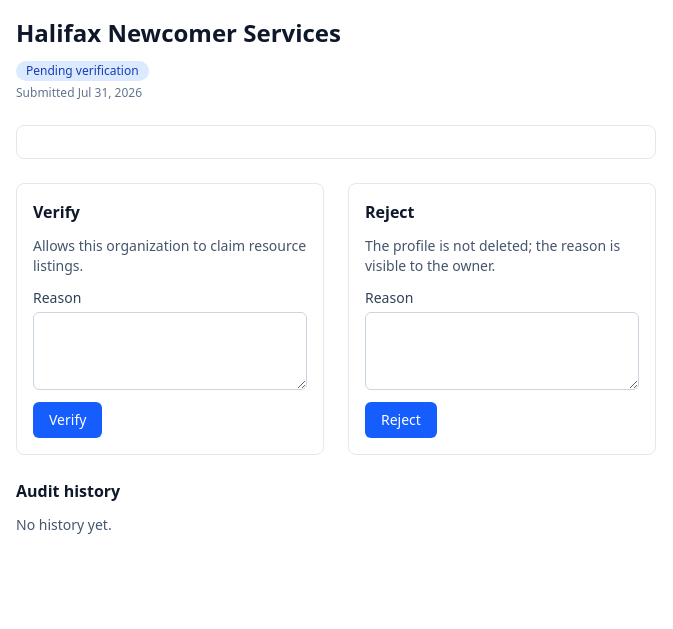
Test: AdminOrganizationDetail › shows a specific message when self-review is blocked
Expected: the heading "Halifax Newcomer Services" is shown, 16,16 -> 341,49
In the 1st text box labelled "Reason": (170, 351) 33,312 -> 307,390, type "Approving my own organization."
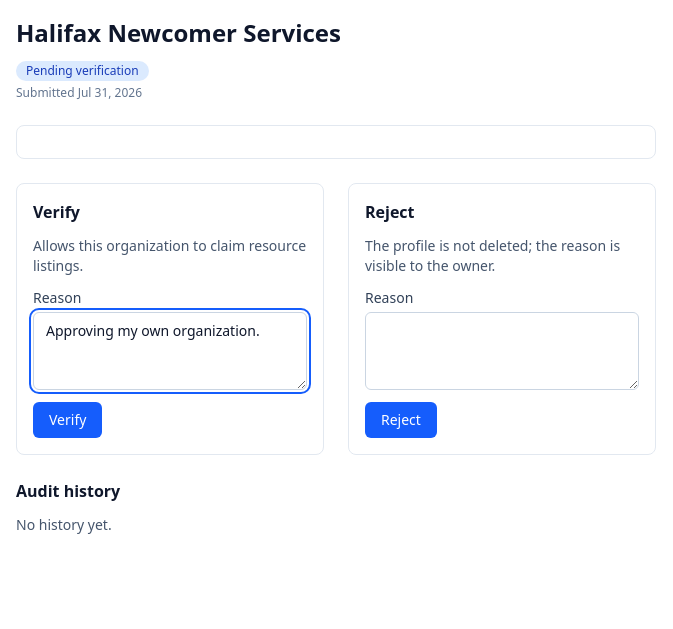
Click the button "Verify": (68, 420) 33,402 -> 102,438
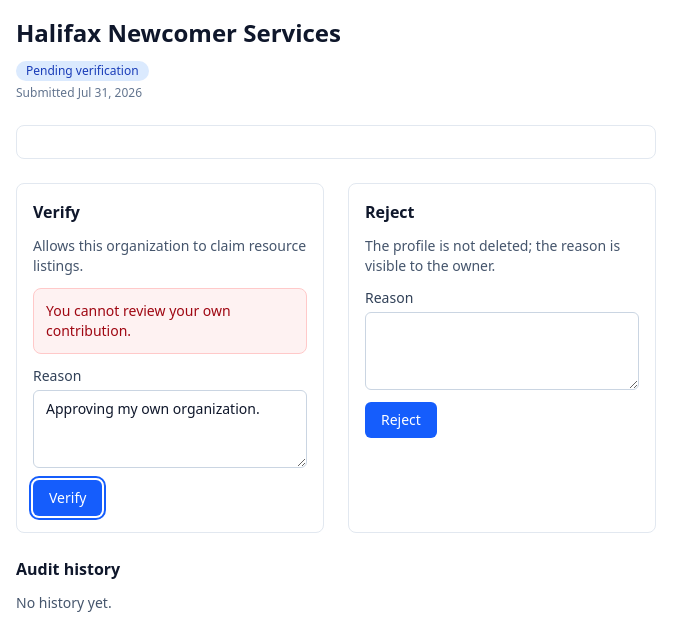
Result: the message shows "cannot review your own" at 46,301 -> 231,340
